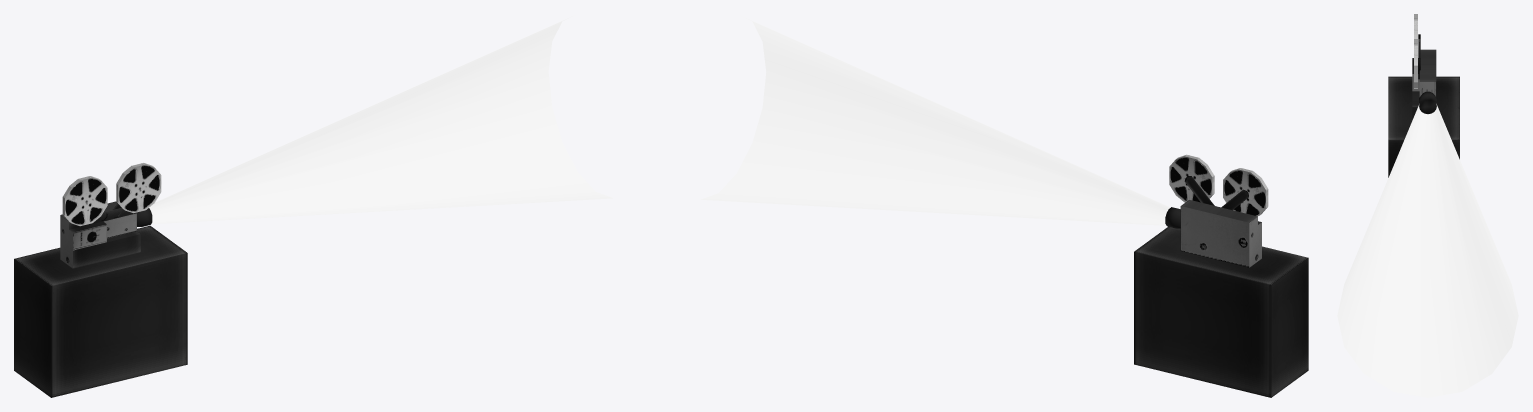
The model's file is CinemaProjector.glb.
The picture shows the model from 3 angles, left to right: view 1: azimuth 30°, elevation 25°; view 2: azimuth 150°, elevation 25°; view 3: azimuth 270°, elevation 25°; orthographic projection. The views are drawn at different scales.
Visible parts, largest first — view 1: FilmThing, FilmPlayer, Reel1, Reel2; view 2: FilmThing, FilmPlayer, Reel2, Reel1; view 3: FilmThing, FilmPlayer, Reel1.
Part boxes in pixels (<box>): FilmThing: <box>149,16,612,224</box>; FilmPlayer: <box>14,201,187,397</box>; Reel1: <box>116,163,161,213</box>; Reel2: <box>62,176,107,226</box>; FilmThing: <box>701,15,1170,225</box>; FilmPlayer: <box>1134,176,1308,397</box>; Reel2: <box>1223,168,1268,216</box>; Reel1: <box>1169,154,1214,202</box>; FilmThing: <box>1337,104,1518,397</box>; FilmPlayer: <box>1388,34,1459,177</box>; Reel1: <box>1414,39,1417,88</box>.
Size of the model in its own units: 6.2 by 2.35 by 1.79.
Materials: 2 (1 with a texture image).
